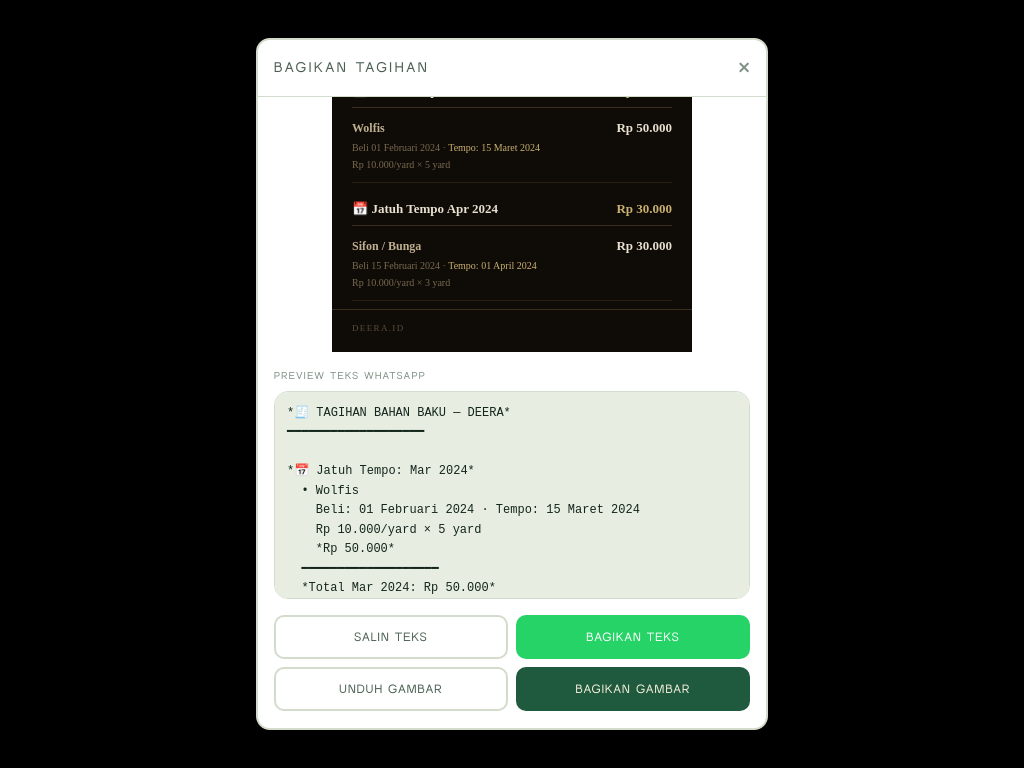
Test: TagihanShareModal › shows checkmark Disalin after copy
The image size is (1024, 768).
(page scrolled)
Click the button "Salin Teks".
click(391, 637)  # box [274,615,508,659]
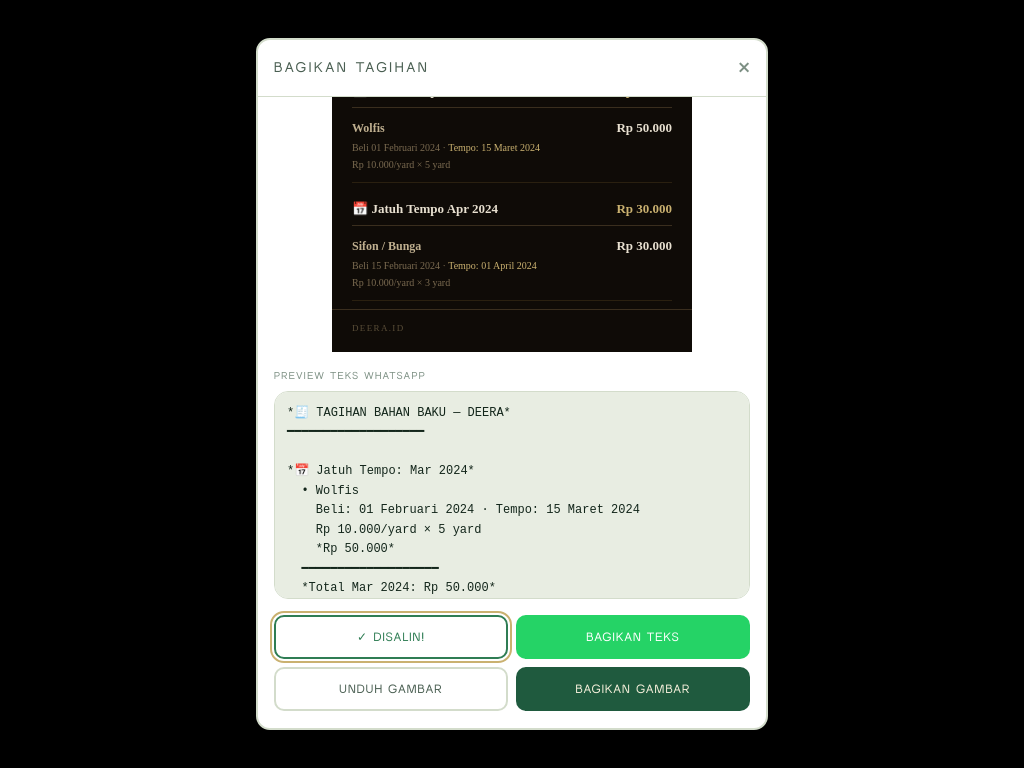
Check: the button "✓ Disalin!" is shown, box [274,615,508,659]
